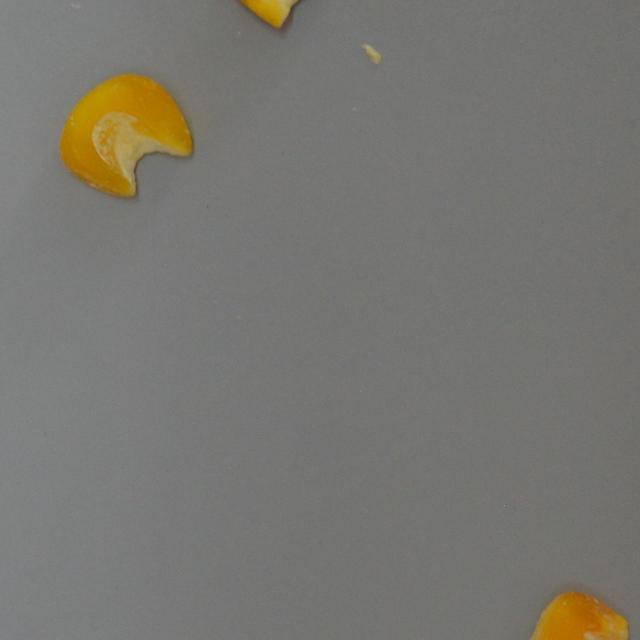dañado: (520, 586, 633, 640), (216, 0, 346, 36)
pelicula: (54, 69, 200, 203)
